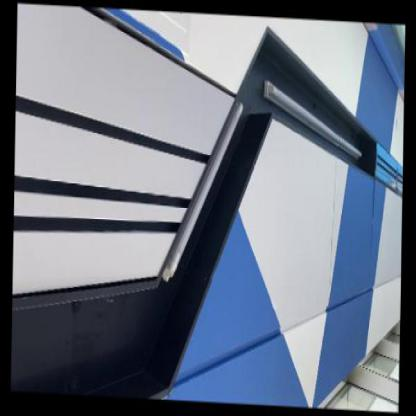light_off: (156, 83, 246, 292), (257, 67, 367, 189)
